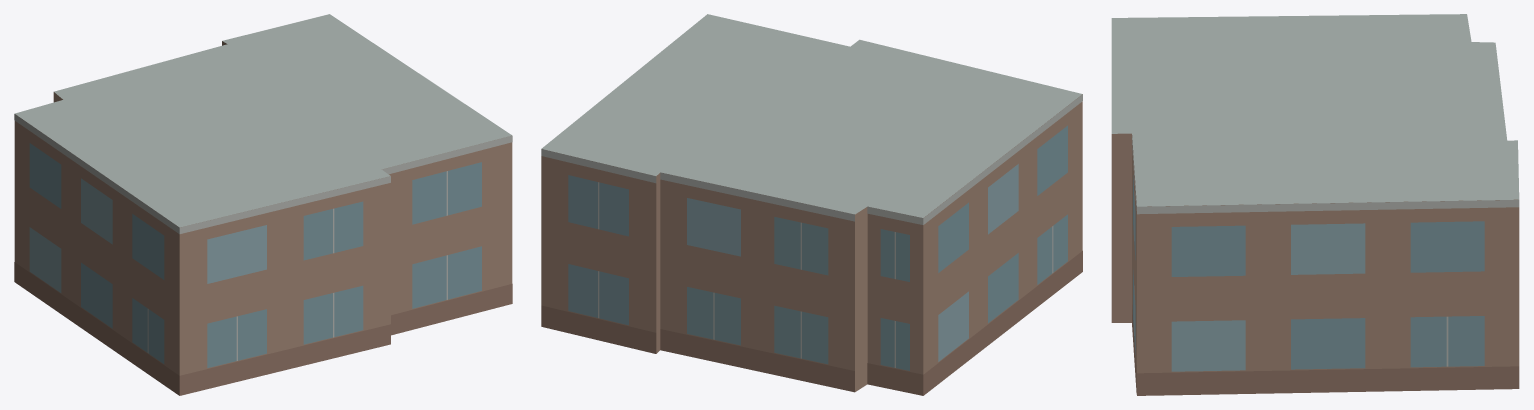
The model's file is survey-upis-32837119.glb.
3 views of the same model, side by side, from view 1: azimuth 30°, elevation 25°; view 2: azimuth 150°, elevation 25°; view 3: azimuth 270°, elevation 25° (orthographic). The views are drawn at different scales.
Visible parts, largest first — view 1: survey-upis-32837119.tmp; view 2: survey-upis-32837119.tmp; view 3: survey-upis-32837119.tmp.
Boxes of the visible parts, x1=… form: survey-upis-32837119.tmp: x1=14, y1=14, x2=512, y2=395; survey-upis-32837119.tmp: x1=541, y1=14, x2=1082, y2=395; survey-upis-32837119.tmp: x1=1111, y1=14, x2=1519, y2=395.
Size of the model in its own units: 13.33 by 6.1 by 11.92.
